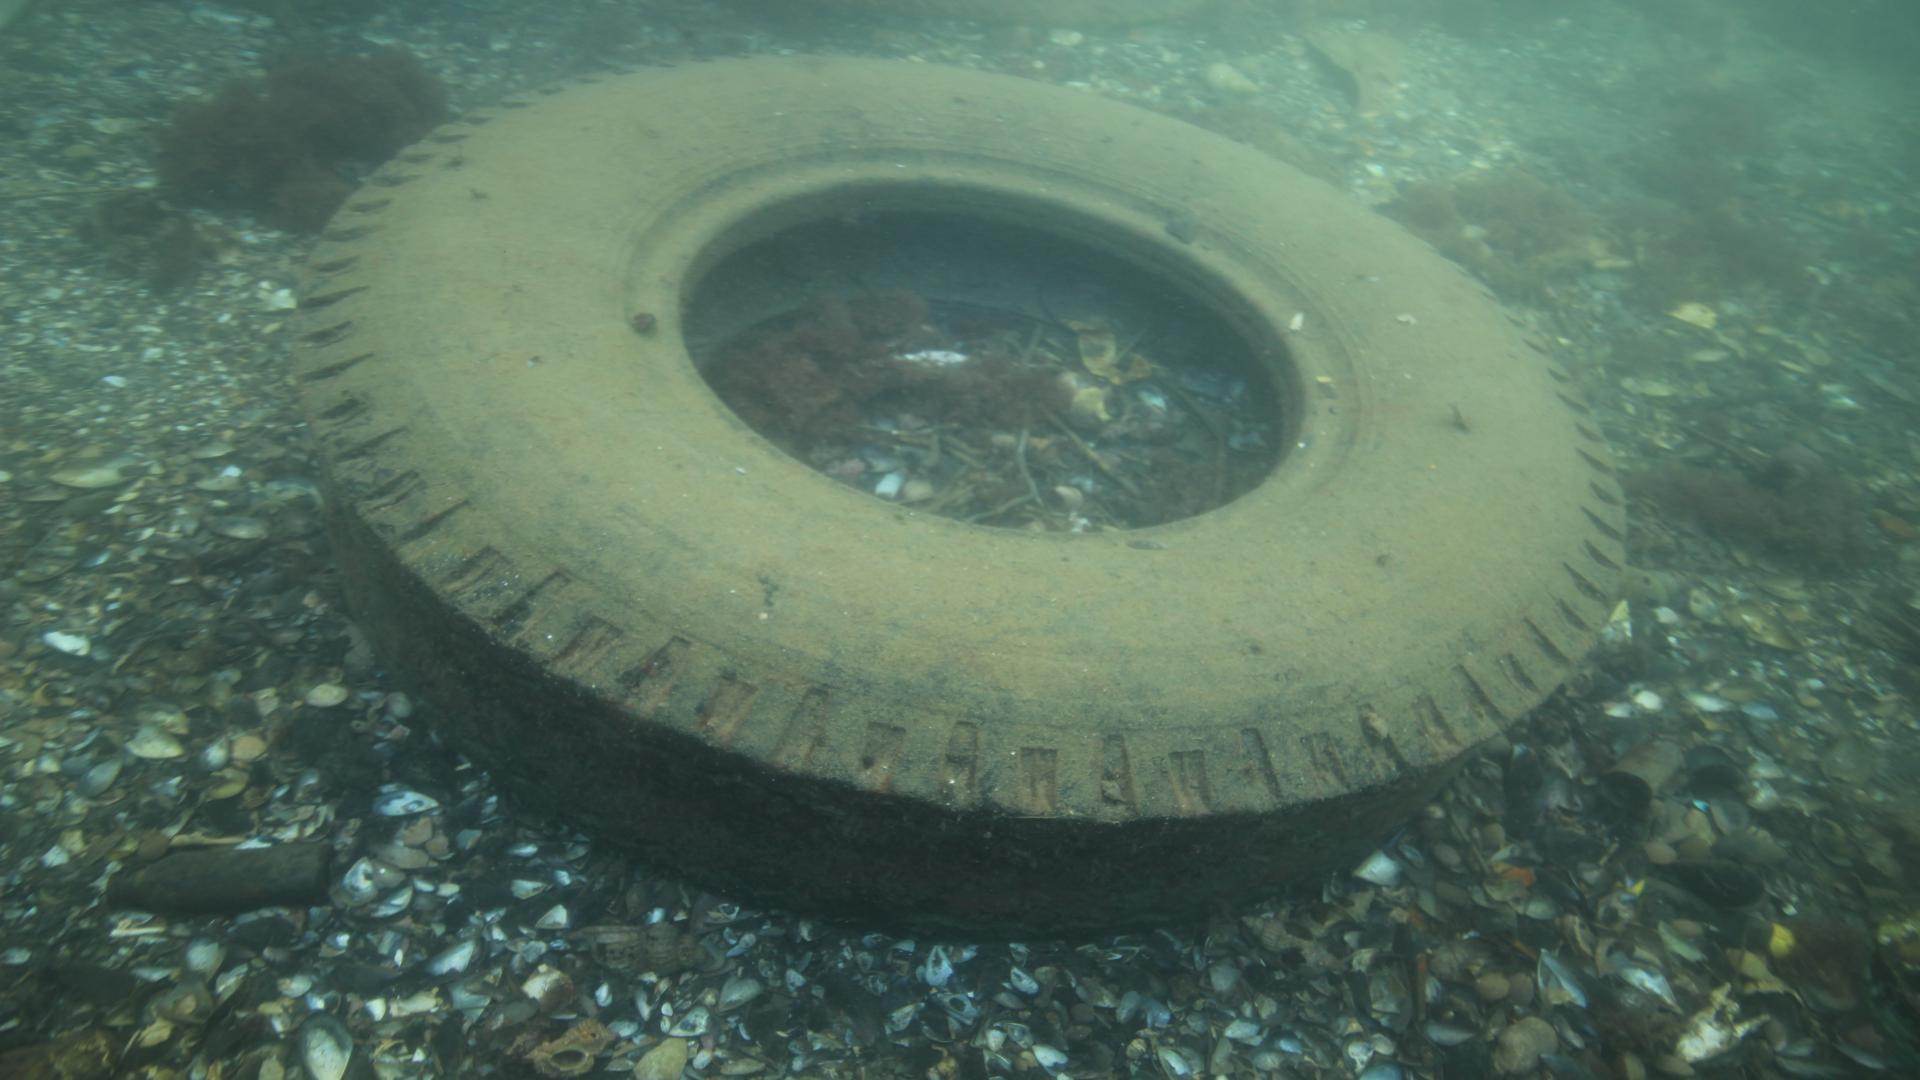tire: (297, 49, 1625, 942)
